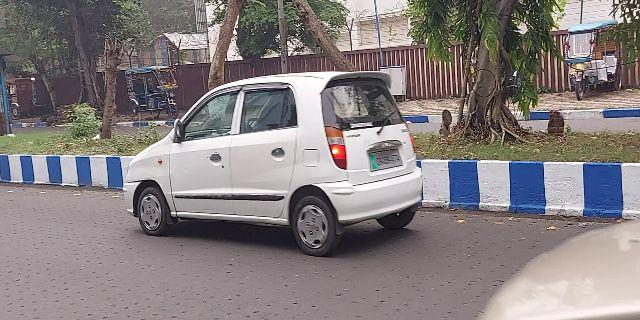Car: (115, 68, 429, 263)
